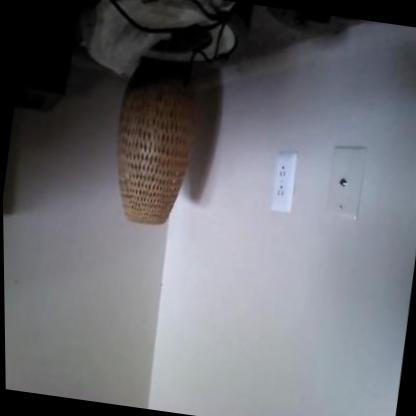OUTLET: (269, 152, 299, 214)
